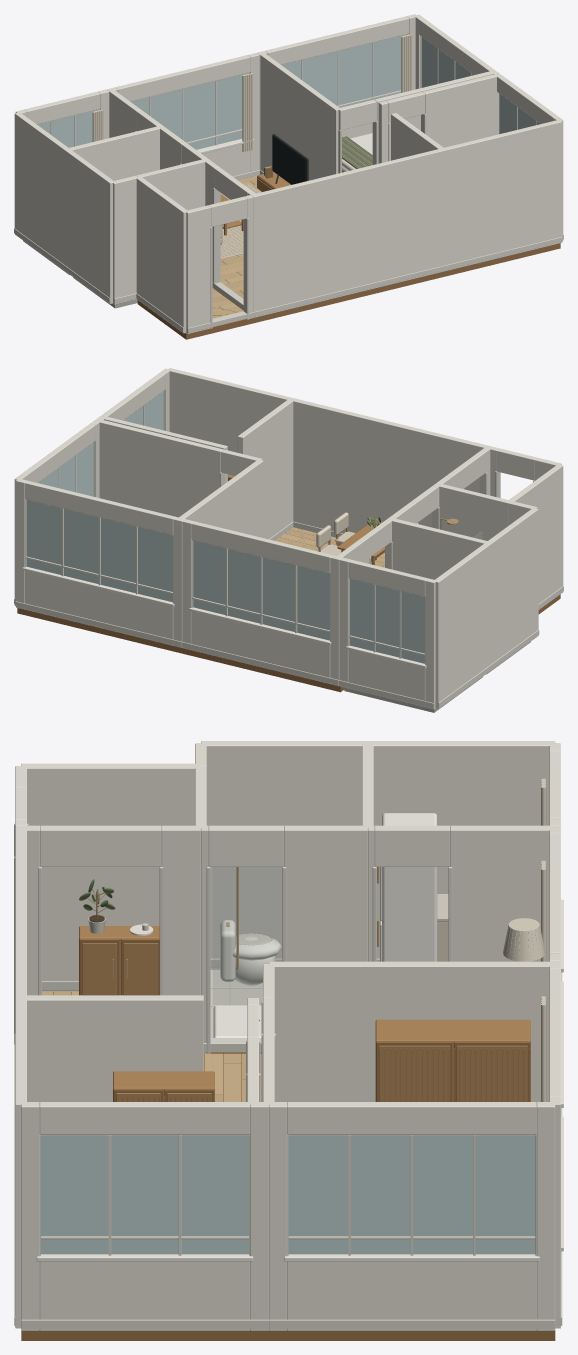
Rendered from old-home.glb.
3 renders of one model, top to bottom at view 1: azimuth 30°, elevation 25°; view 2: azimuth 150°, elevation 25°; view 3: azimuth 270°, elevation 25°, orthographic. The views are drawn at different scales.
Parts seen in each view (by area): view 1: Plaster wall (×28), Pale glazing (×5), Skirting board (×3), Floor underlay (×2), Door jamb (×2), Television screen, Bound wool rug, Sage bed throw; view 2: Plaster wall (×29), Pale glazing (×5), Skirting board (×4), Floor underlay (×2), Stone window sill (×2); view 3: Plaster wall (×30), Pale glazing (×2), Oak door panel (×4), Shower glass screen, Carcass (×3), Refrigerator, Floor underlay, Skirting board (×2), Stone window sill (×2), Window rail (×2), Pleated shade, Shower tray (+4 smaller).
Part boxes in pixels (left/top/right/bottom): Plaster wall (×28): left=14, top=14, right=562, bottom=333; Pale glazing (×5): left=38, top=34, right=540, bottom=149; Skirting board (×3): left=14, top=228, right=562, bottom=332; Floor underlay (×2): left=137, top=243, right=560, bottom=339; Door jamb (×2): left=213, top=188, right=248, bottom=319; Television screen: left=272, top=135, right=305, bottom=184; Bound wool rug: left=220, top=184, right=260, bottom=259; Sage bed throw: left=342, top=136, right=372, bottom=168; Plaster wall (×29): left=16, top=368, right=563, bottom=709; Pale glazing (×5): left=26, top=392, right=424, bottom=663; Skirting board (×4): left=15, top=601, right=539, bottom=708; Floor underlay (×2): left=17, top=608, right=482, bottom=712; Stone window sill (×2): left=22, top=567, right=331, bottom=645; Plaster wall (×30): left=15, top=741, right=560, bottom=1330; Pale glazing (×2): left=41, top=1136, right=535, bottom=1254; Oak door panel (×4): left=82, top=943, right=527, bottom=1101; Shower glass screen: left=213, top=867, right=281, bottom=1004; Carcass (×3): left=79, top=926, right=530, bottom=1101; Refrigerator: left=382, top=813, right=437, bottom=961; Floor underlay: left=21, top=1054, right=555, bottom=1340; Skirting board (×2): left=21, top=1319, right=555, bottom=1328; Stone window sill (×2): left=36, top=1254, right=539, bottom=1261; Window rail (×2): left=41, top=1236, right=535, bottom=1239; Pleated shade: left=503, top=918, right=545, bottom=961; Shower tray: left=213, top=1005, right=261, bottom=1037.
Size of the model in its own units: 8.96 by 2.69 by 5.67.
